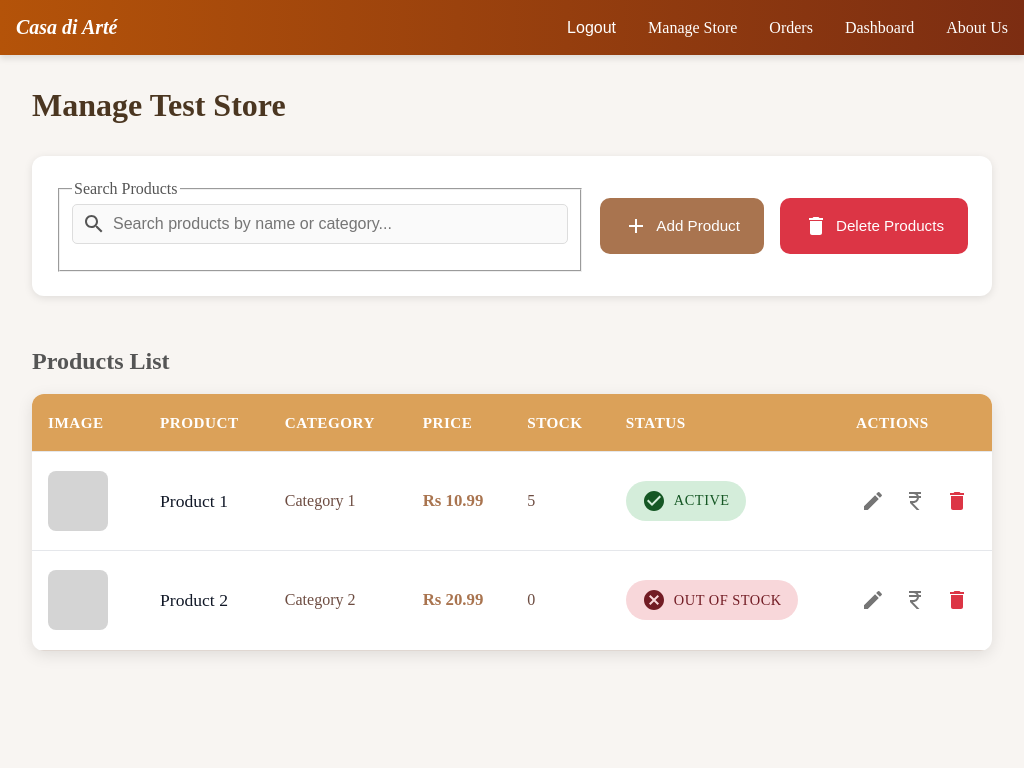
Test: ManageStore Component › filters products using search
Expected: the heading "Manage Test Store" is shown, [32,87,286,123]
Step 1. Type "Category 1" into the search field with placeholder "Search products by name or category..." → [320, 224], box [72,204,568,244]
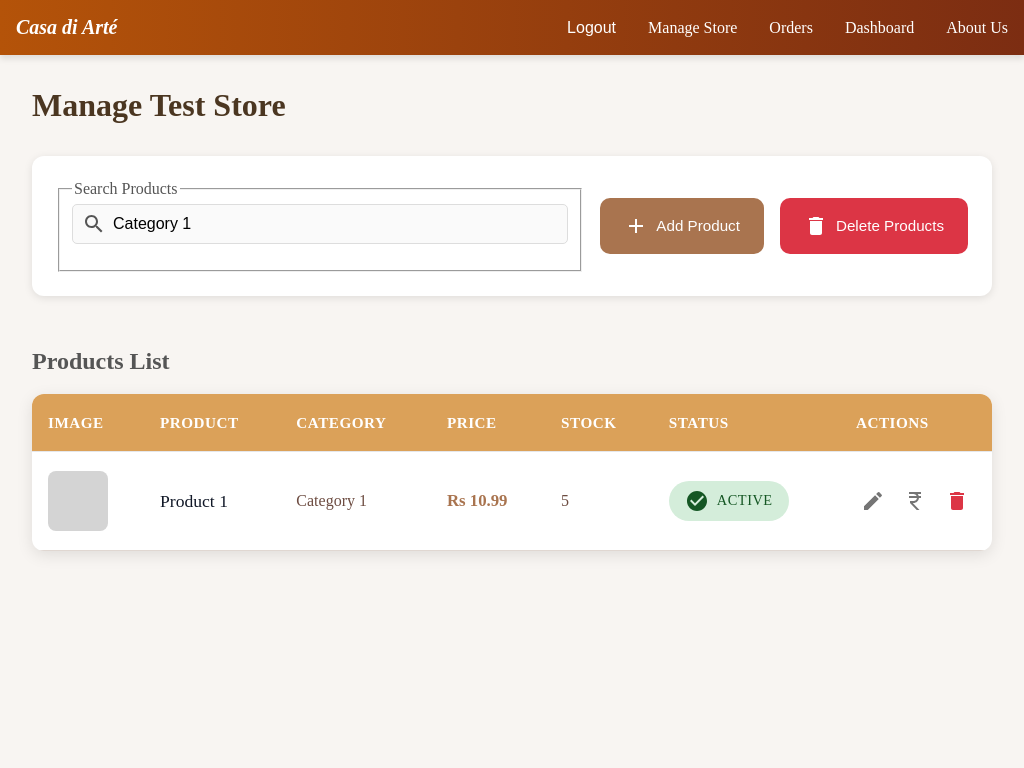
Expected: the text "Product 1" is shown, [160,491,228,511]
Now the text "Product 2" is gone
